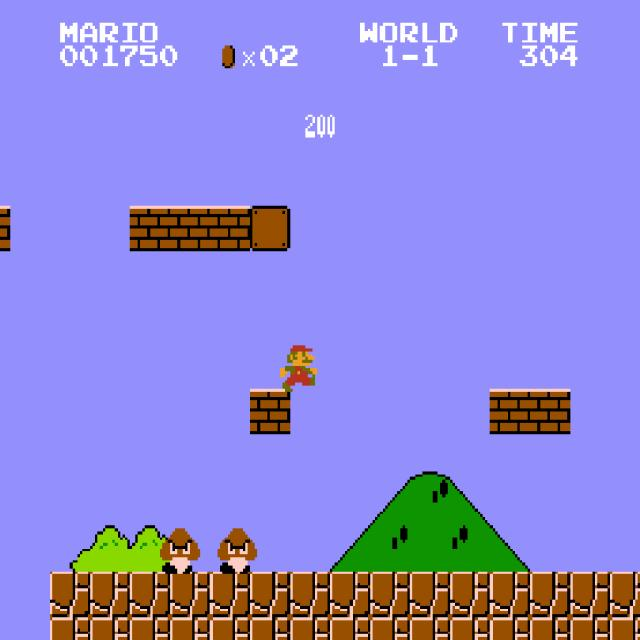brick_block: (130, 206, 170, 251), (170, 206, 210, 251), (210, 206, 250, 251), (250, 389, 290, 434), (490, 389, 530, 434), (530, 389, 570, 434), (0, 205, 10, 251)
empty_block: (250, 206, 290, 251)
goomba: (158, 526, 200, 574), (215, 526, 257, 574)
little_mario: (277, 343, 320, 391)
undestructible_block: (50, 572, 90, 617), (90, 572, 130, 617), (130, 572, 170, 617), (170, 572, 210, 617), (210, 572, 250, 617), (250, 572, 290, 617), (290, 572, 330, 617), (330, 572, 370, 617), (370, 572, 410, 617), (410, 572, 450, 617), (450, 572, 490, 617), (490, 572, 530, 617), (530, 572, 570, 617), (570, 572, 610, 617), (610, 572, 640, 617), (50, 617, 90, 640), (90, 617, 130, 640), (130, 617, 170, 640), (170, 617, 210, 640), (210, 617, 250, 640), (250, 617, 290, 640), (290, 617, 330, 640), (330, 617, 370, 640), (370, 617, 410, 640), (410, 617, 450, 640), (450, 617, 490, 640), (490, 617, 530, 640), (530, 617, 570, 640), (570, 617, 610, 640), (610, 617, 640, 640)
